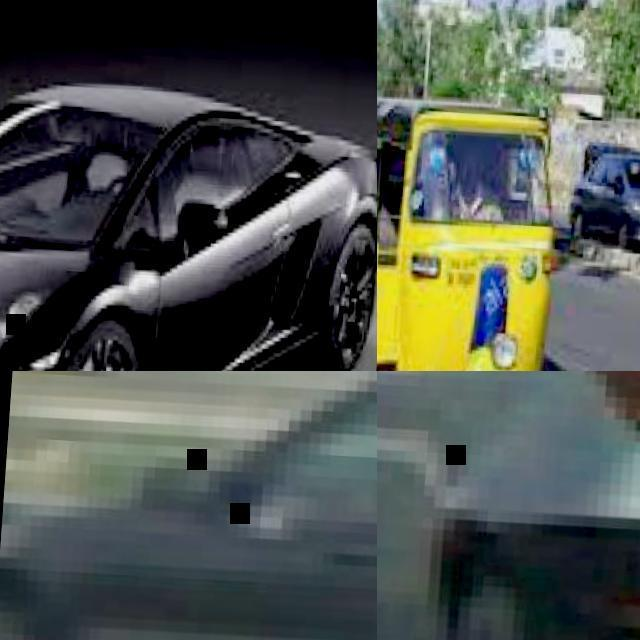car: (568, 143, 639, 253)
